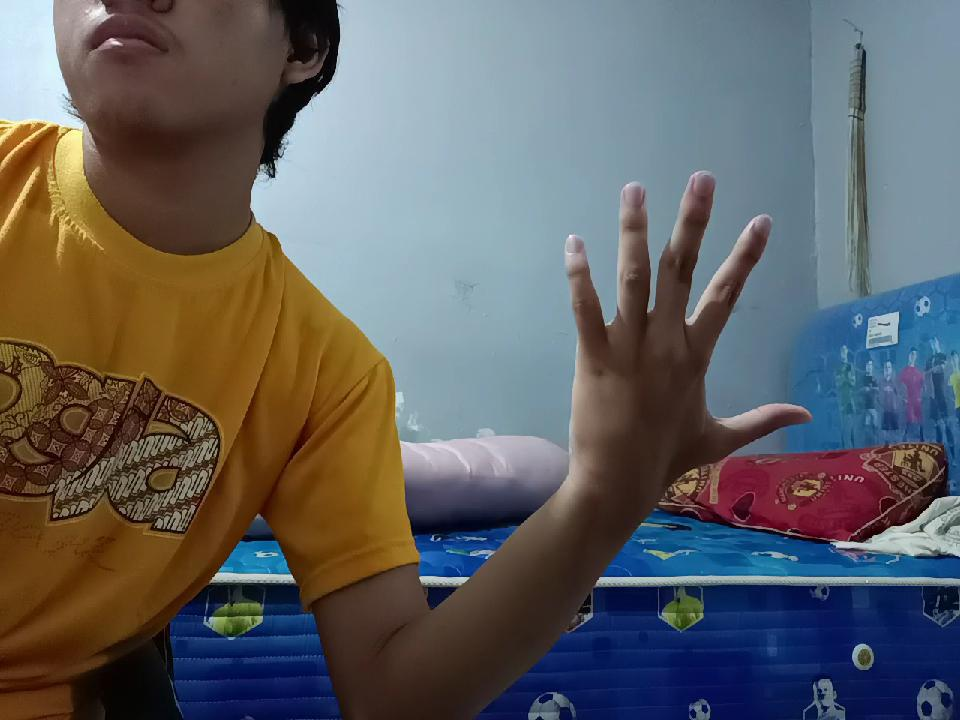paper: (553, 170, 798, 508)
